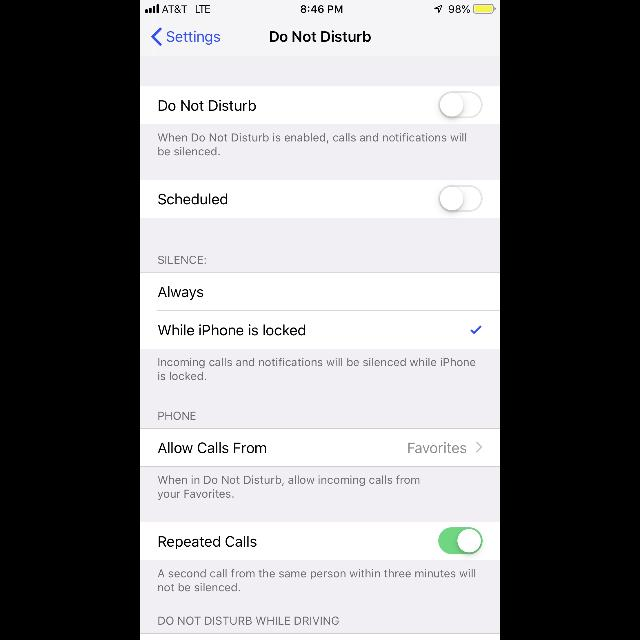icon: (152, 28, 162, 46), (471, 326, 482, 334), (476, 442, 482, 452)
switch: (438, 185, 482, 212), (438, 92, 482, 118), (438, 528, 482, 554)
text: (158, 568, 476, 592), (158, 132, 466, 156), (158, 358, 476, 380), (158, 476, 420, 500), (158, 324, 306, 336), (159, 617, 339, 625), (159, 535, 257, 549), (158, 442, 266, 453), (158, 100, 255, 112), (270, 32, 370, 42), (158, 193, 228, 204), (167, 31, 220, 45), (158, 286, 204, 300), (408, 442, 466, 453), (158, 256, 206, 264), (158, 412, 196, 421)
uppertaskbar: (140, 0, 500, 14)
